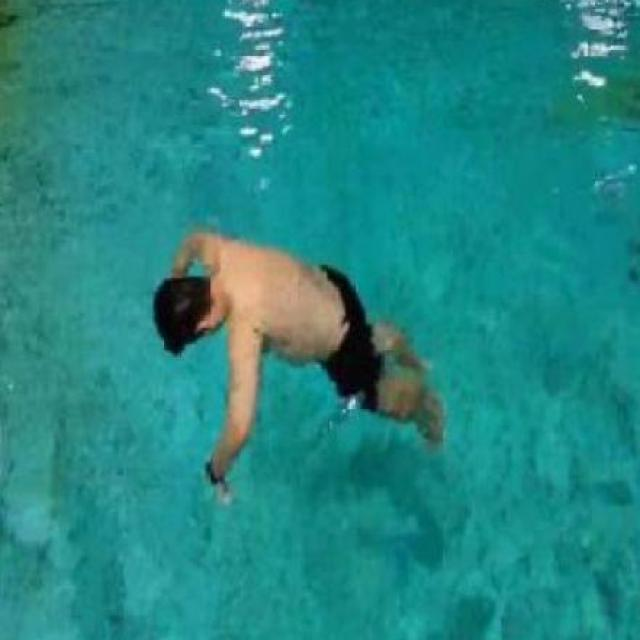Drowning: (153, 228, 444, 503)
